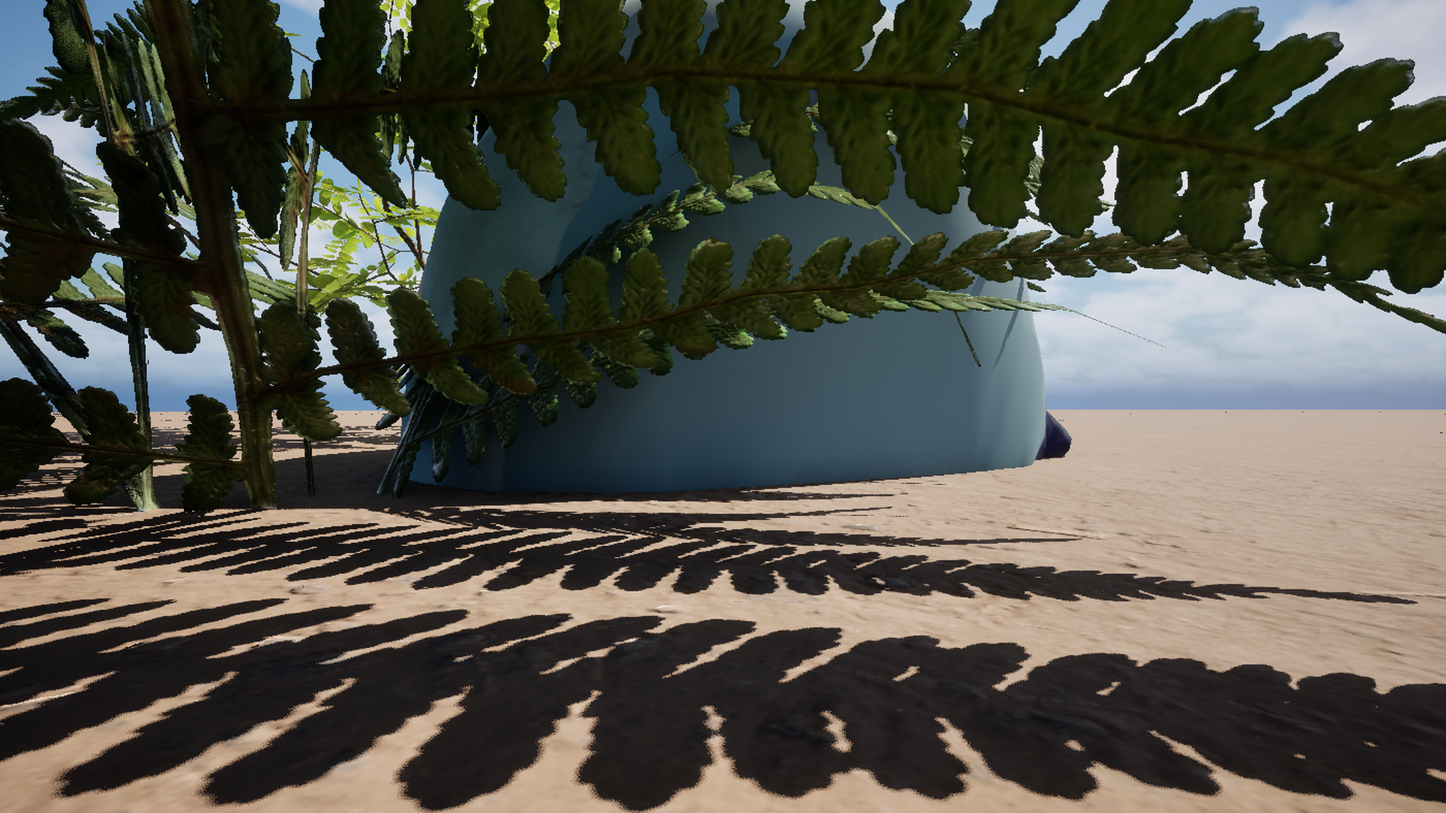Piplup: (334, 0, 1246, 813)
